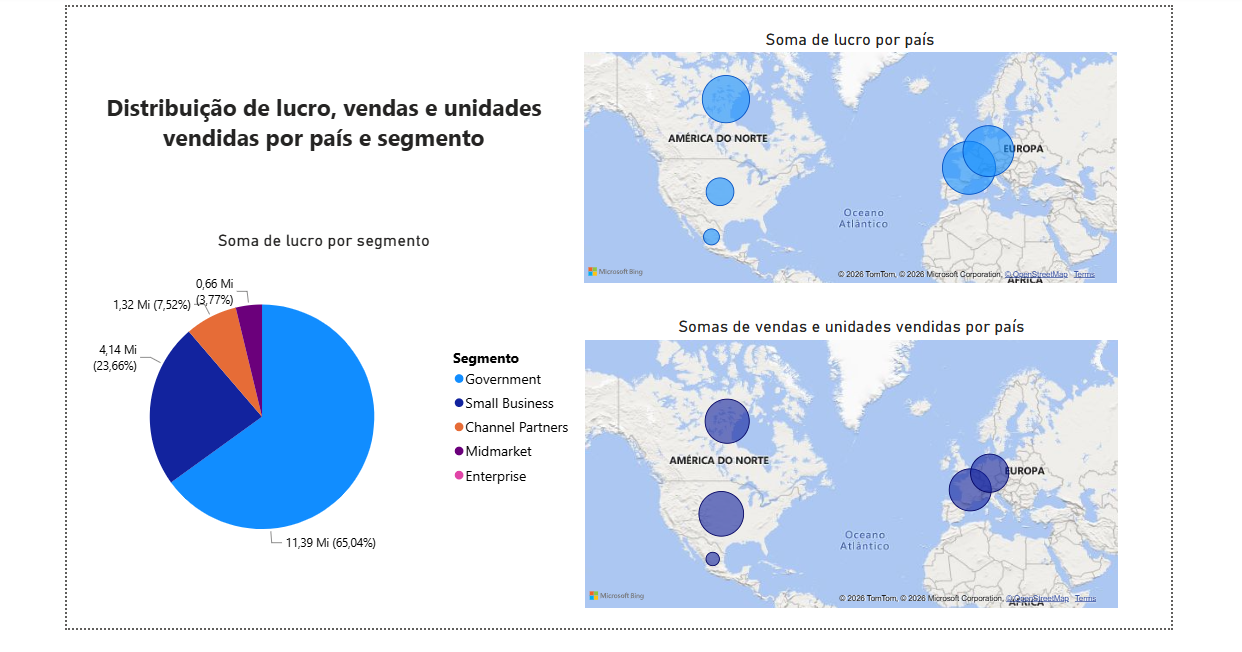

What the dashboard file says about the page in this screenshot:
{"tool":"powerbi","page":{"name":"Página 3","canvas":[1280,720],"ordinal":2},"visuals":[{"type":"map","title":"Somas de vendas e unidades vendidas por país","fields":{"Category":["financials.Country"],"Size":["Sum(financials. Sales)"]},"box":[595.7,359.4,627.5,342.5],"z":0},{"type":"map","title":"Soma de lucro por país","fields":{"Size":["Sum(financials.Profit)"],"Category":["financials.Country"]},"box":[594.2,26.1,627.5,300],"z":1},{"type":"pieChart","title":"Soma de lucro por segmento","fields":{"Y":["Sum(financials.Profit)"],"Category":["financials.Segment"]},"box":[0,259.4,595.7,410.1],"z":2},{"type":"textbox","box":[0,92.8,595.7,166.7],"z":3}]}

Visuals, with their boxes on the page's 1280x720 design canvas (x1, y1, x2, y2). These are canvas units, not pixel positions in the 1242x652 screenshot, which may show the page scaled, cropped or inside an application window:
"Somas de vendas e unidades vendidas por país" map: (left=596, top=359, right=1223, bottom=702)
"Soma de lucro por país" map: (left=594, top=26, right=1222, bottom=326)
"Soma de lucro por segmento" pieChart: (left=0, top=259, right=596, bottom=670)
textbox: (left=0, top=93, right=596, bottom=260)
